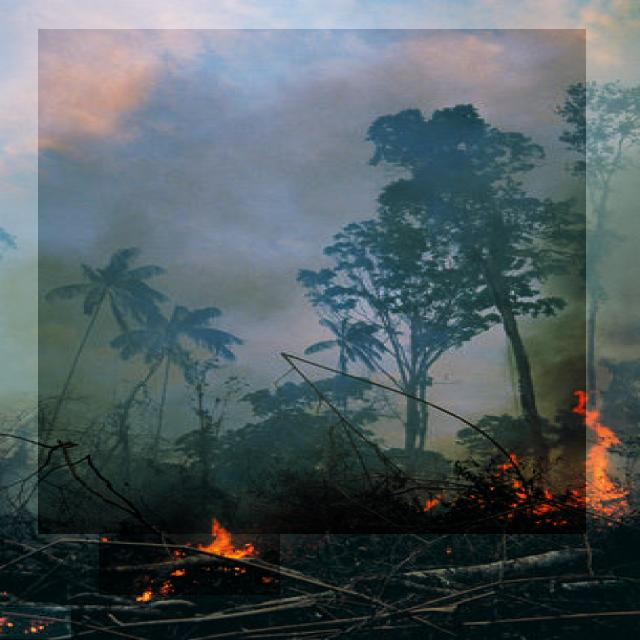Fire: (434, 394, 626, 527), (99, 526, 280, 595), (0, 607, 71, 639)
Smoke: (38, 29, 586, 534)
